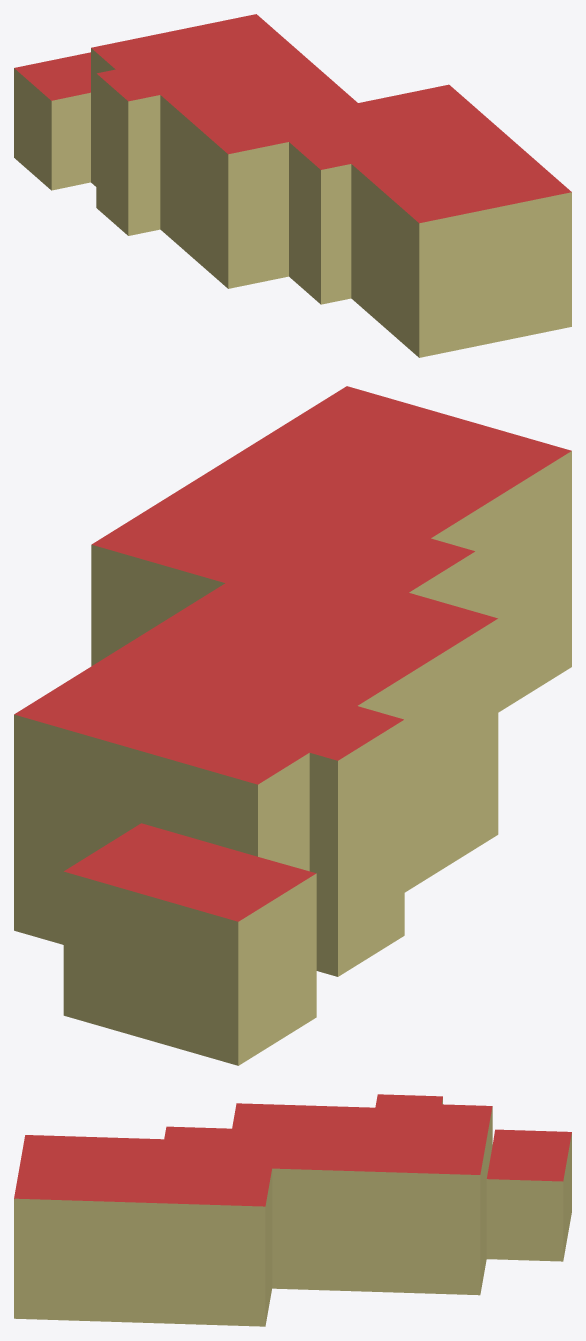
3 renders of one model, top to bottom at view 1: azimuth 30°, elevation 25°; view 2: azimuth 150°, elevation 25°; view 3: azimuth 270°, elevation 25°, orthographic. The views are drawn at different scales.
Bounding box in the file's own units: 17.33 × 34.91 × 8.29.
